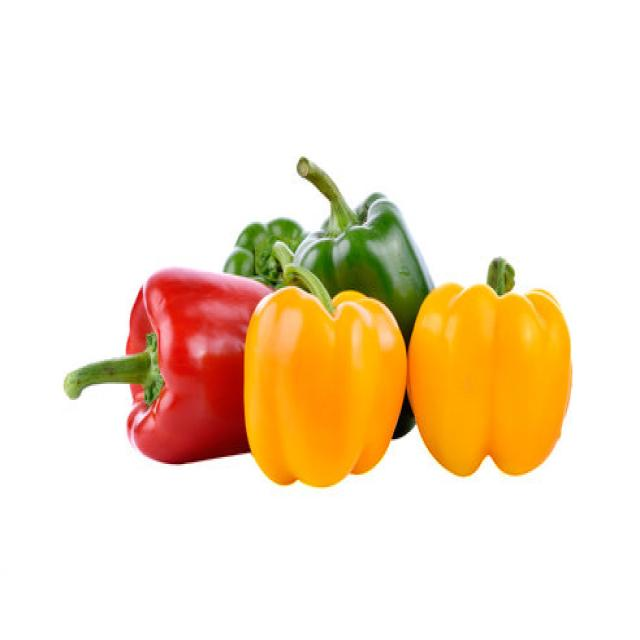Bell Pepper: (63, 265, 274, 464), (289, 155, 434, 439), (242, 240, 407, 487), (406, 254, 572, 476)
Carrot: (488, 286, 572, 475)
Radish: (296, 155, 356, 233)
